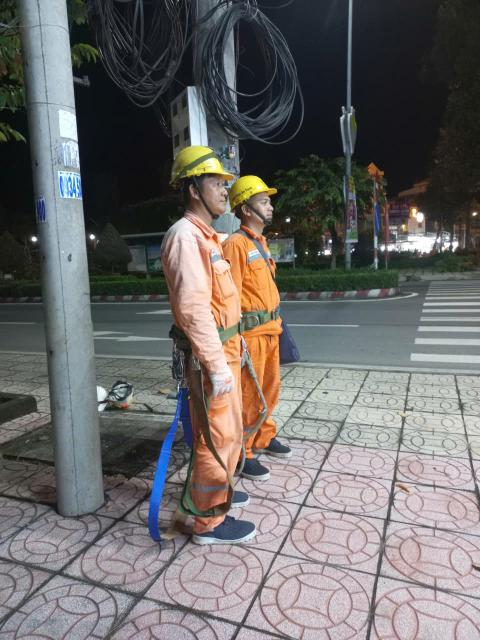gloves: (191, 352, 241, 400)
harness: (158, 310, 254, 353), (224, 294, 288, 333)
helmet: (165, 137, 233, 188), (227, 167, 279, 211)
shoes: (189, 509, 266, 547), (217, 431, 268, 485), (201, 481, 257, 512), (253, 420, 294, 462)
